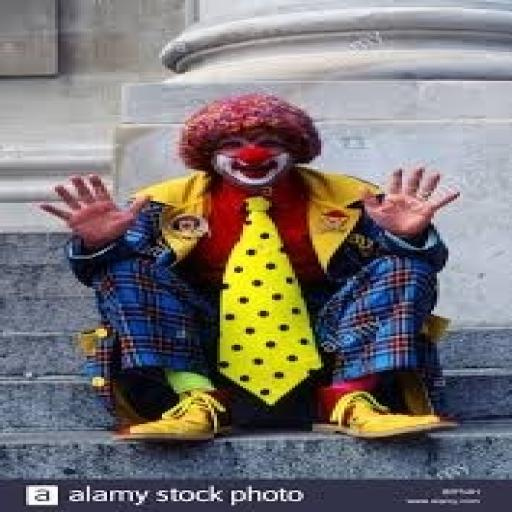sitting: (34, 90, 466, 444)
